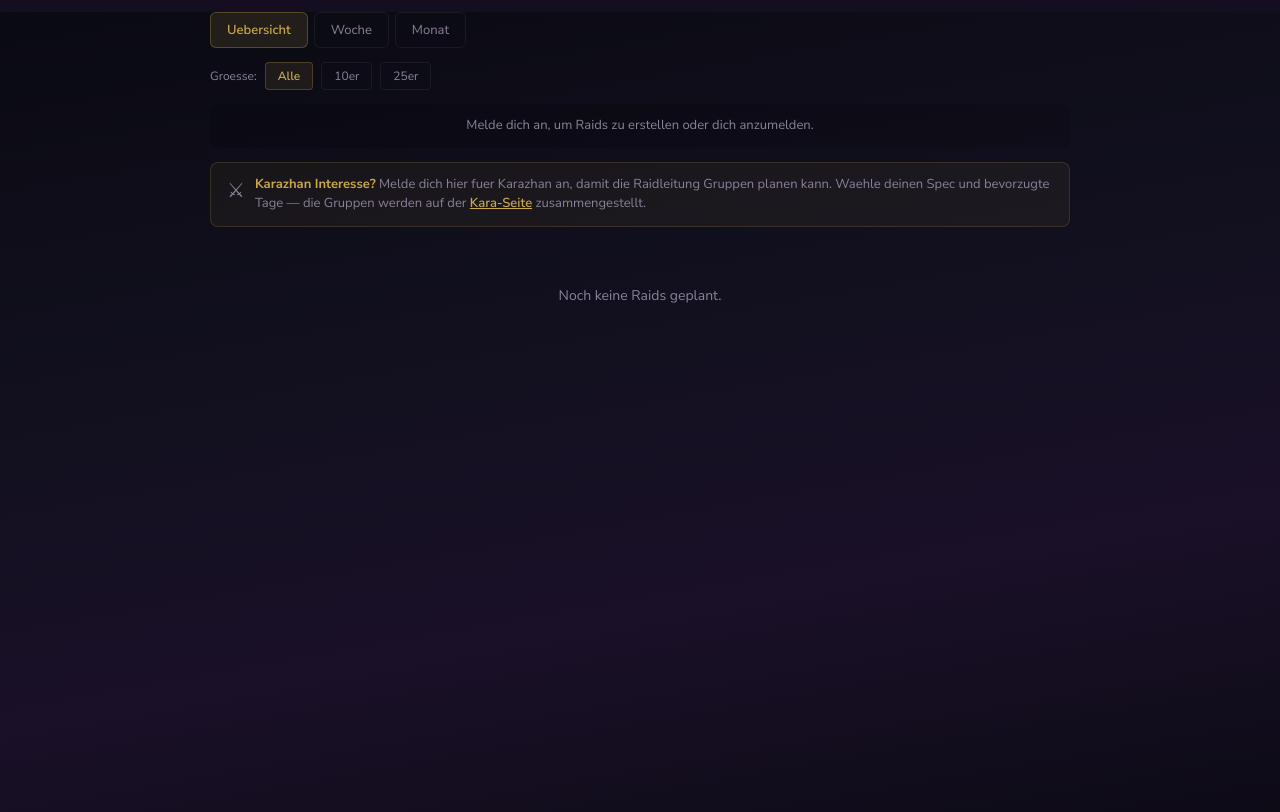
Test: RaidsView › shows monthly calendar when toggled
Step 1. Click the button with class "rt-btn" showing "Monat" → (430, 30), box [395,12,466,48]
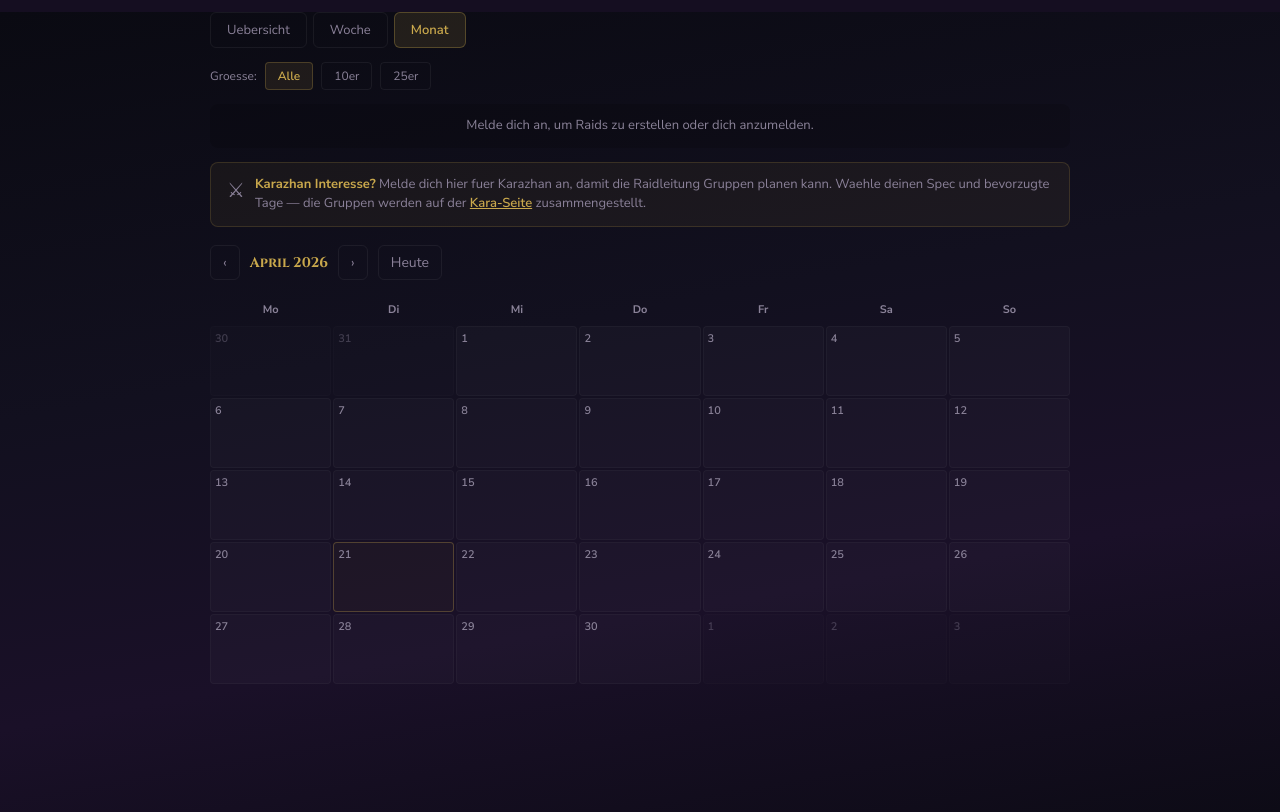
Now the element with class "cal-grid" is shown, box [210,296,1070,684]
